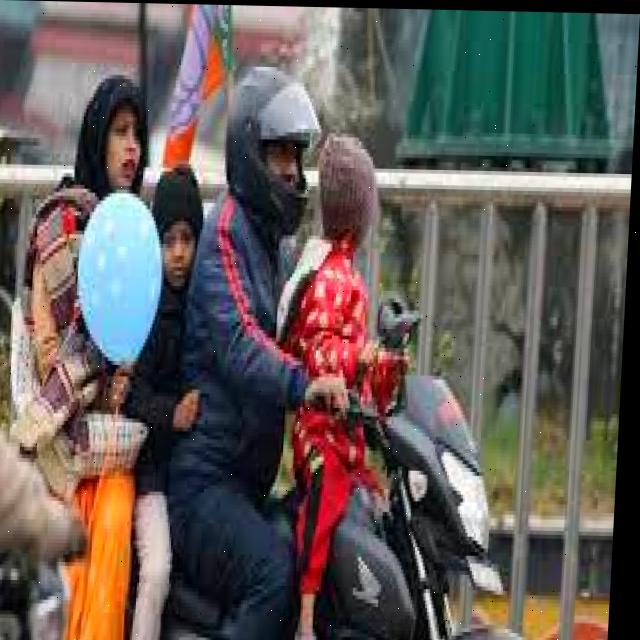Helmet: (222, 60, 325, 232)
